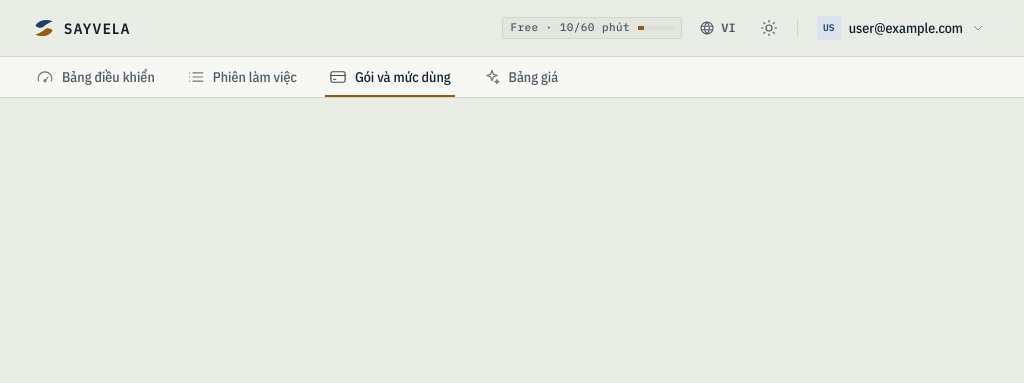
SiteHeader › renders the app navigation, quota chip and user menu when authenticated
What coordinates should you click on to do the following:
click the button "US user@example.com"
I would click on:
 (901, 28)
Its box is [810,9,992,47].
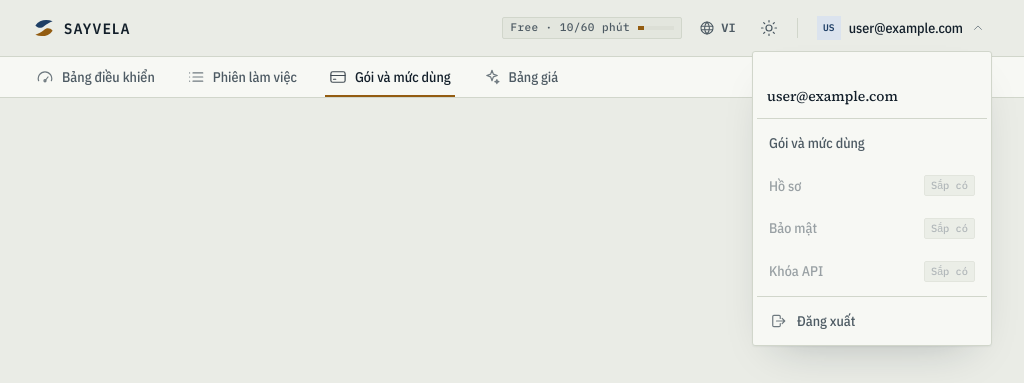
Expected: the menu item "Đăng xuất" is shown, [757,301,987,341]
